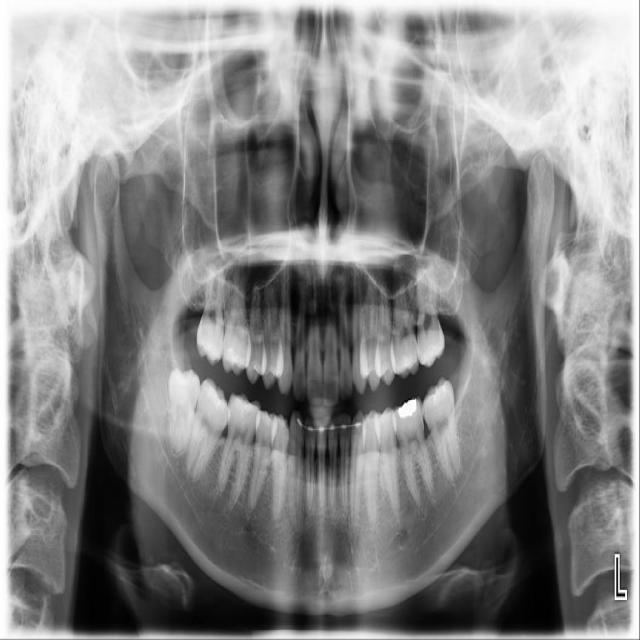Filling: (397, 400, 418, 415)
impacted tooth: (423, 382, 460, 483), (168, 370, 202, 456)
